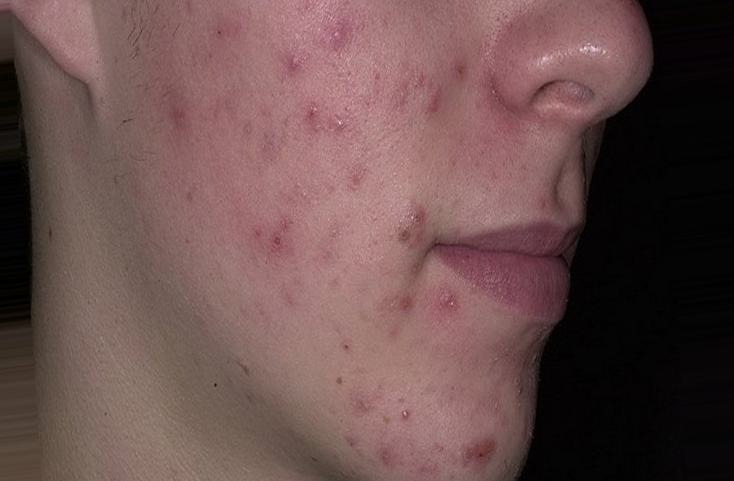Acne: (177, 17, 526, 458)
